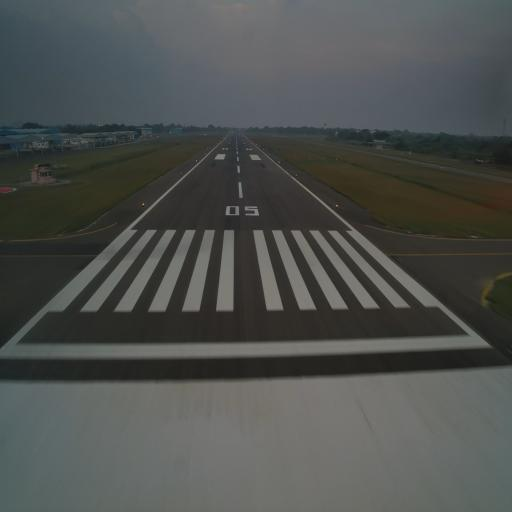on: (142, 201, 145, 207), (335, 203, 338, 209)
